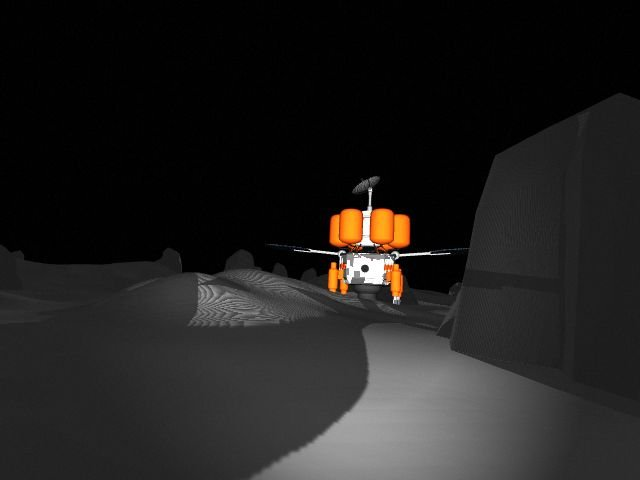homebase: (258, 173, 474, 308)
